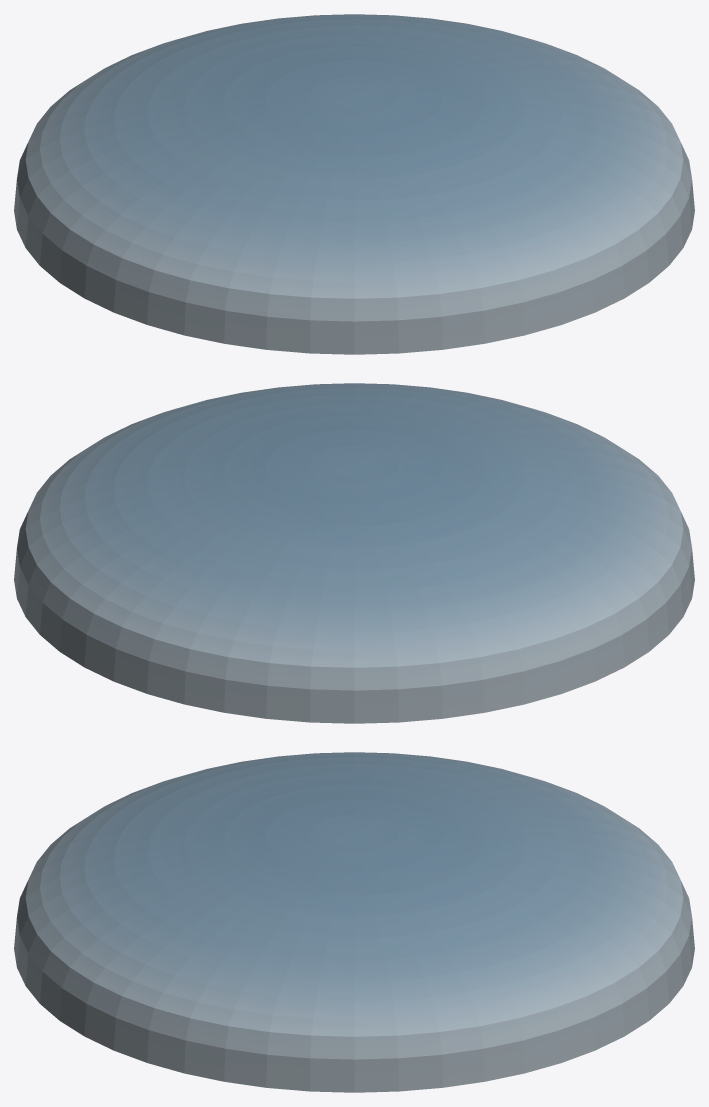
Rendered from Skydome.obj.
3 views of the same model, one above another, from view 1: azimuth 30°, elevation 25°; view 2: azimuth 150°, elevation 25°; view 3: azimuth 270°, elevation 25° (orthographic).
Parts seen in each view (by area): view 1: 球_球.001; view 2: 球_球.001; view 3: 球_球.001.
Part boxes in pixels (x1,y1,x2,y2): 球_球.001: (14,14,694,354); 球_球.001: (14,383,694,723); 球_球.001: (14,752,694,1092).
Bounding box in the file's own units: 2 × 0.3745 × 2.
1 material, 1 textured.
